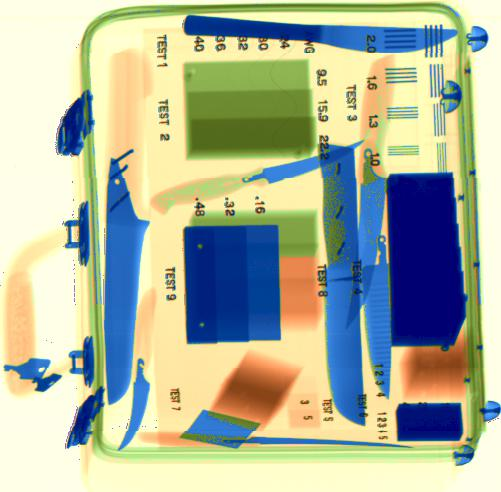Knife: (150, 136, 365, 222), (105, 50, 154, 407), (318, 141, 368, 427), (344, 57, 392, 328), (183, 11, 456, 54), (116, 290, 159, 450), (139, 428, 413, 448), (360, 231, 391, 402)
